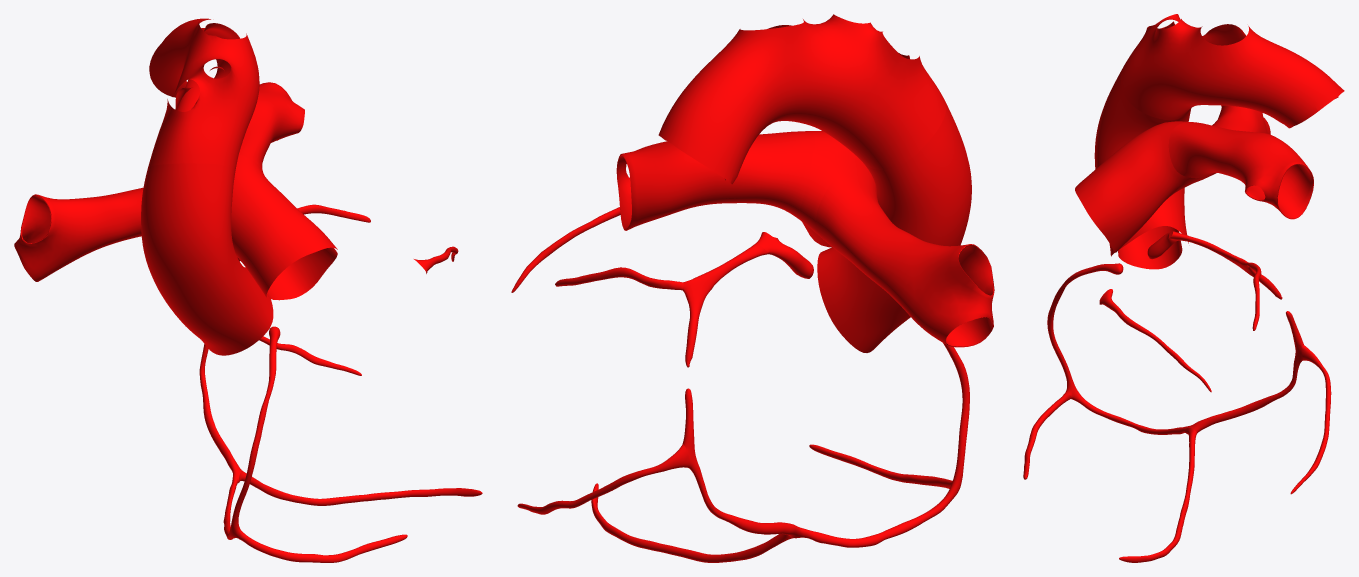
File: hra-female-cardiac-arterial-01.glb
3 views of the same model, side by side, from view 1: azimuth 30°, elevation 25°; view 2: azimuth 150°, elevation 25°; view 3: azimuth 270°, elevation 25° (orthographic). The views are drawn at different scales.
Visible parts, largest first — view 1: VH_F_ascending_aorta, VH_F_aortic_arch, VH_F_pulmonary_trunk, VH_F_pulmonary_artery_R, VH_F_pulmonary_artery_L, VH_F_right_coronary_artery, VH_F_left_posterior_descending_branch_of_circumflex_branch_o, VH_F_right_marginal_artery, VH_F_posterior_left_ventricular_branch; view 2: VH_F_aortic_arch, VH_F_pulmonary_artery_R, VH_F_ascending_aorta, VH_F_pulmonary_artery_L, VH_F_right_coronary_artery, VH_F_pulmonary_trunk, VH_F_left_posterior_descending_branch_of_circumflex_branch_o, VH_F_left_circumflex_artery, VH_F_posterior_left_ventricular_branch, VH_F_right_marginal_artery, VH_F_left_marginal_branch, VH_F_left_coronary_artery (+1 smaller); view 3: VH_F_aortic_arch, VH_F_pulmonary_artery_L, VH_F_pulmonary_trunk, VH_F_ascending_aorta, VH_F_right_coronary_artery, VH_F_pulmonary_artery_R, VH_F_left_posterior_descending_branch_of_circumflex_branch_o, VH_F_posterior_left_ventricular_branch, VH_F_diagonal_branch_of_left_anterior_descending_artery, VH_F_left_circumflex_artery, VH_F_right_marginal_artery, VH_F_left_coronary_artery (+1 smaller).
Boxes of the visible parts, x1=… form: VH_F_ascending_aorta: x1=141, y1=163, x2=273, y2=355; VH_F_aortic_arch: x1=148, y1=18, x2=259, y2=172; VH_F_pulmonary_trunk: x1=231, y1=154, x2=337, y2=300; VH_F_pulmonary_artery_R: x1=14, y1=187, x2=143, y2=281; VH_F_pulmonary_artery_L: x1=239, y1=82, x2=304, y2=171; VH_F_right_coronary_artery: x1=199, y1=326, x2=280, y2=539; VH_F_left_posterior_descending_branch_of_circumflex_branch_o: x1=239, y1=470, x2=482, y2=505; VH_F_right_marginal_artery: x1=239, y1=532, x2=407, y2=562; VH_F_posterior_left_ventricular_branch: x1=259, y1=336, x2=361, y2=375; VH_F_aortic_arch: x1=658, y1=14, x2=946, y2=184; VH_F_pulmonary_artery_R: x1=816, y1=171, x2=994, y2=347; VH_F_ascending_aorta: x1=817, y1=102, x2=971, y2=352; VH_F_pulmonary_artery_L: x1=616, y1=131, x2=815, y2=230; VH_F_right_coronary_artery: x1=682, y1=343, x2=969, y2=547; VH_F_pulmonary_trunk: x1=796, y1=131, x2=876, y2=247; VH_F_left_posterior_descending_branch_of_circumflex_branch_o: x1=591, y1=483, x2=795, y2=562; VH_F_left_circumflex_artery: x1=682, y1=243, x2=768, y2=367; VH_F_posterior_left_ventricular_branch: x1=517, y1=444, x2=689, y2=514; VH_F_right_marginal_artery: x1=809, y1=444, x2=952, y2=488; VH_F_left_marginal_branch: x1=555, y1=267, x2=683, y2=290; VH_F_left_coronary_artery: x1=756, y1=232, x2=813, y2=278; VH_F_aortic_arch: x1=1120, y1=14, x2=1344, y2=128; VH_F_pulmonary_artery_L: x1=1168, y1=122, x2=1313, y2=219; VH_F_pulmonary_trunk: x1=1075, y1=121, x2=1216, y2=252; VH_F_ascending_aorta: x1=1094, y1=69, x2=1191, y2=269; VH_F_right_coronary_artery: x1=1047, y1=263, x2=1303, y2=434; VH_F_pulmonary_artery_R: x1=1212, y1=105, x2=1270, y2=134; VH_F_left_posterior_descending_branch_of_circumflex_branch_o: x1=1119, y1=428, x2=1197, y2=562; VH_F_posterior_left_ventricular_branch: x1=1290, y1=345, x2=1331, y2=494; VH_F_diagonal_branch_of_left_anterior_descending_artery: x1=1099, y1=289, x2=1211, y2=392; VH_F_left_circumflex_artery: x1=1183, y1=235, x2=1282, y2=299; VH_F_right_marginal_artery: x1=1023, y1=394, x2=1071, y2=479; VH_F_left_coronary_artery: x1=1147, y1=231, x2=1186, y2=259.
Size of the model in its own units: 0.1386 by 0.1566 by 0.1002.
